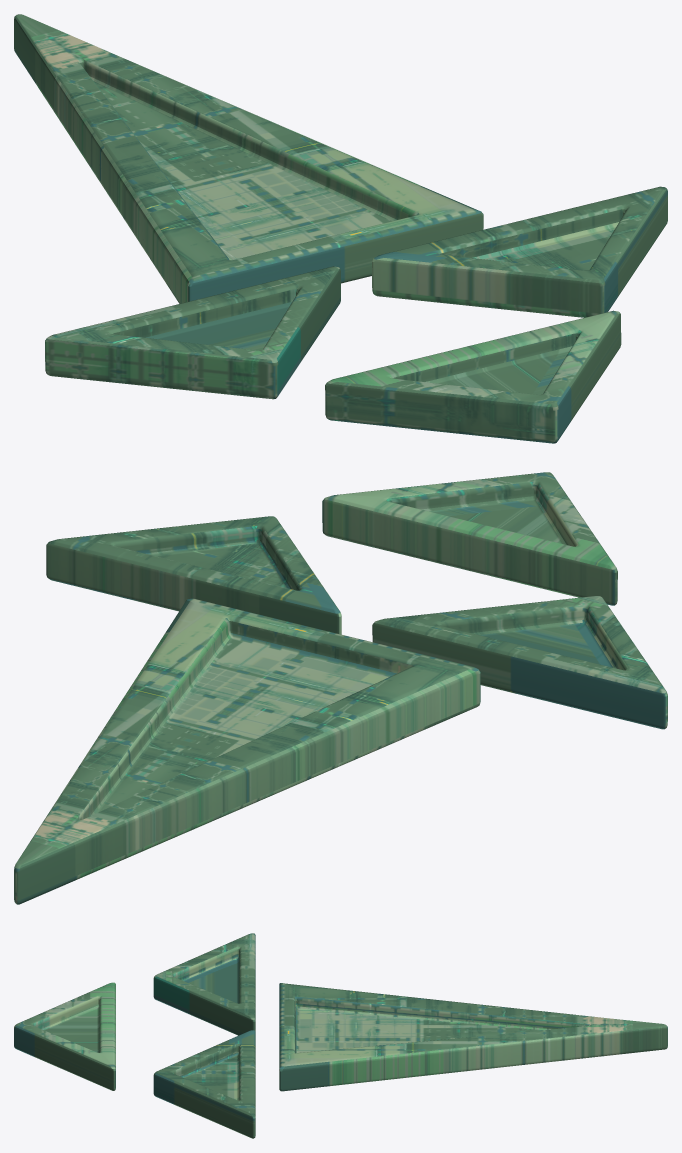
Rendered from Key.fbx.
The picture shows the model from 3 angles, top to bottom: view 1: azimuth 30°, elevation 25°; view 2: azimuth 150°, elevation 25°; view 3: azimuth 270°, elevation 25°; orthographic projection. The views are drawn at different scales.
Parts seen in each view (by area): view 1: pPlane9; view 2: pPlane9; view 3: pPlane9.
Part boxes in pixels (left/top/right/bottom): pPlane9: left=14, top=14, right=667, bottom=443; pPlane9: left=14, top=472, right=667, bottom=904; pPlane9: left=14, top=933, right=667, bottom=1138.
Size of the model in its own units: 539 by 35.41 by 807.
